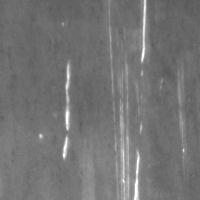scratches: (112, 55, 143, 198), (58, 59, 75, 159), (174, 64, 188, 163), (138, 1, 152, 66)
